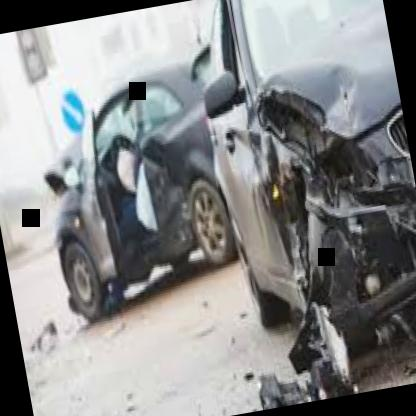accident: (7, 17, 416, 416)
